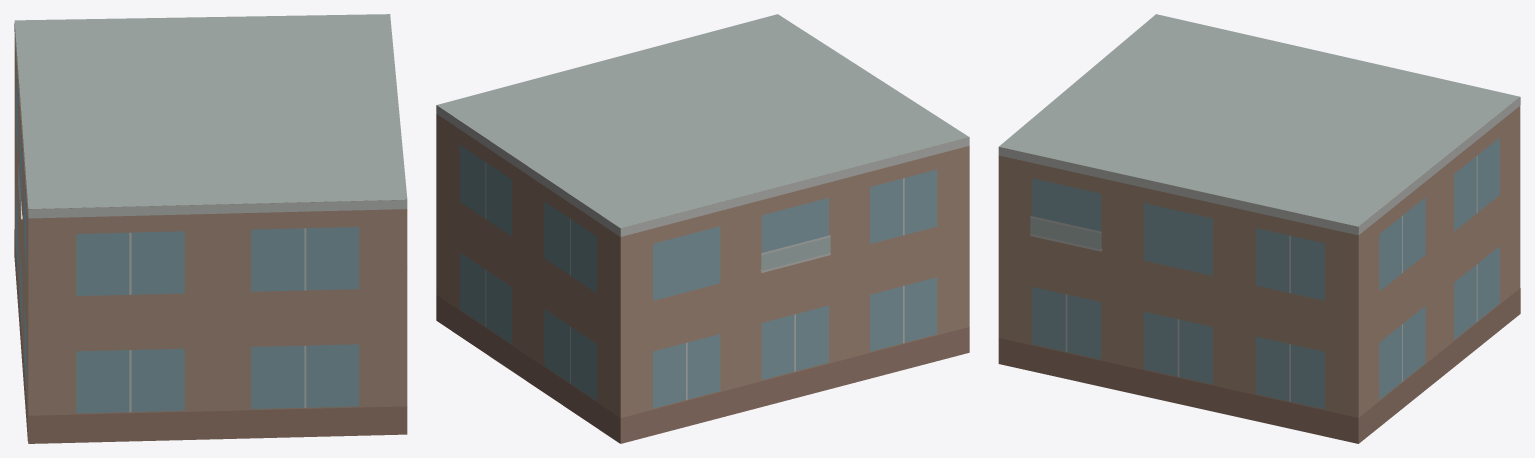
The model's file is survey-upis-32928067.glb.
3 renders of one model, left to right at view 1: azimuth 30°, elevation 25°; view 2: azimuth 150°, elevation 25°; view 3: azimuth 270°, elevation 25°, orthographic. The views are drawn at different scales.
Parts seen in each view (by area): view 1: survey-upis-32928067.tmp; view 2: survey-upis-32928067.tmp; view 3: survey-upis-32928067.tmp.
Part boxes in pixels (x1,y1,x2,y2): survey-upis-32928067.tmp: (14, 14, 407, 443); survey-upis-32928067.tmp: (436, 14, 969, 443); survey-upis-32928067.tmp: (998, 14, 1520, 443).
Size of the model in its own units: 12.83 by 6.1 by 13.3.
